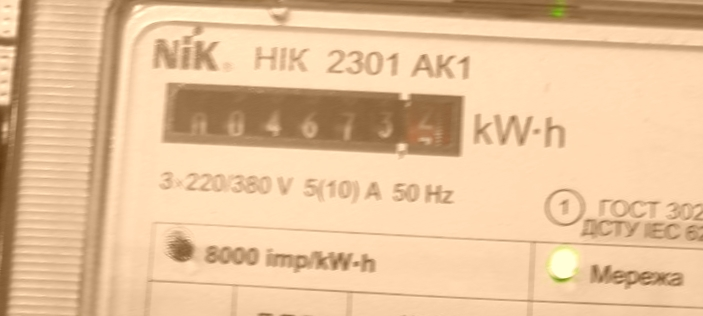0: (187, 104, 209, 135), (225, 104, 245, 136)
2: (415, 97, 436, 130)
3: (375, 104, 394, 139)
4: (263, 102, 283, 138)
6: (297, 104, 320, 138)
7: (335, 105, 359, 143)
screen: (157, 74, 469, 165)
